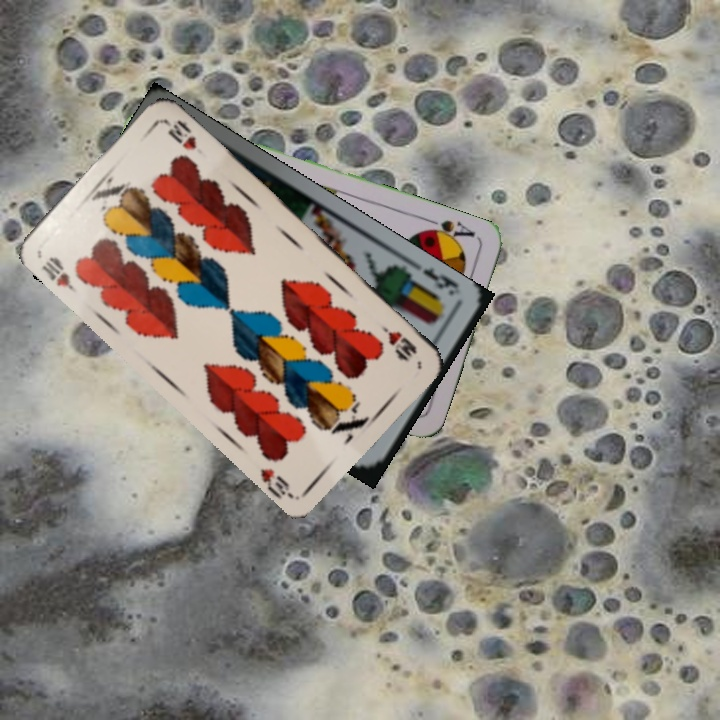EK: (419, 264, 462, 292)
H10: (37, 252, 81, 296), (377, 321, 420, 362)
SA: (420, 215, 478, 247)
